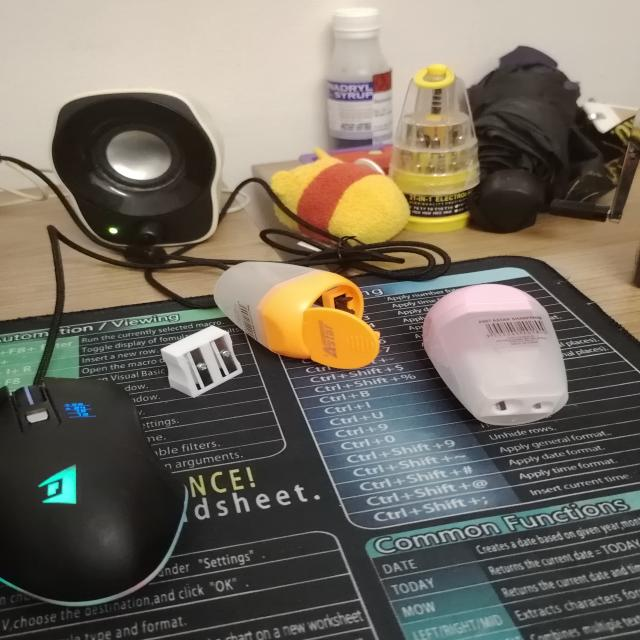sharpener: (423, 284, 568, 425), (214, 262, 379, 368), (161, 327, 242, 397)
